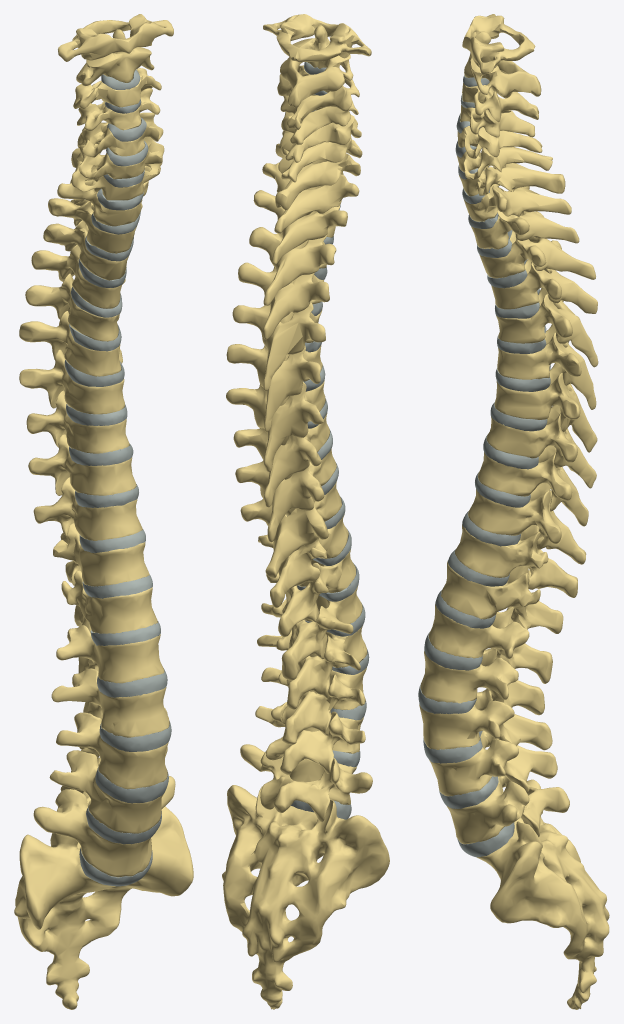
3 views of the same model, side by side, from view 1: azimuth 30°, elevation 25°; view 2: azimuth 150°, elevation 25°; view 3: azimuth 270°, elevation 25° (orthographic). The views are drawn at different scales.
Parts seen in each view (by area): view 1: spine-trunk:sacrum:isa:FJ3393, spine-trunk:fifth-lumbar-vertebra:isa:FJ3168, spine-trunk:second-lumbar-vertebra:isa:FJ3159, spine-trunk:third-lumbar-vertebra:isa:FJ3162, spine-trunk:fourth-lumbar-vertebra:isa:FJ3165, spine-trunk:first-lumbar-vertebra:isa:FJ3157, spine-trunk:tenth-thoracic-vertebra:isa:FJ3154, spine-trunk:twelfth-thoracic-vertebra:isa:FJ3156, spine-trunk:eleventh-thoracic-vertebra:isa:FJ3155, spine-trunk:ninth-thoracic-vertebra:isa:FJ3175, head-neck:atlas:isa:FJ3176, spine-trunk:seventh-thoracic-vertebra:isa:FJ3173 (+33 smaller); view 2: spine-trunk:sacrum:isa:FJ3393, spine-trunk:fifth-lumbar-vertebra:isa:FJ3168, spine-trunk:fourth-lumbar-vertebra:isa:FJ3165, spine-trunk:seventh-thoracic-vertebra:isa:FJ3173, spine-trunk:third-lumbar-vertebra:isa:FJ3162, spine-trunk:first-lumbar-vertebra:isa:FJ3157, spine-trunk:tenth-thoracic-vertebra:isa:FJ3154, spine-trunk:second-lumbar-vertebra:isa:FJ3159, spine-trunk:ninth-thoracic-vertebra:isa:FJ3175, spine-trunk:fifth-thoracic-vertebra:isa:FJ3169, spine-trunk:sixth-thoracic-vertebra:isa:FJ3171, spine-trunk:eighth-thoracic-vertebra:isa:FJ3174 (+14 smaller); view 3: spine-trunk:sacrum:isa:FJ3393, spine-trunk:third-lumbar-vertebra:isa:FJ3162, spine-trunk:first-lumbar-vertebra:isa:FJ3157, spine-trunk:second-lumbar-vertebra:isa:FJ3159, spine-trunk:fifth-lumbar-vertebra:isa:FJ3168, spine-trunk:twelfth-thoracic-vertebra:isa:FJ3156, spine-trunk:fourth-lumbar-vertebra:isa:FJ3165, spine-trunk:eleventh-thoracic-vertebra:isa:FJ3155, spine-trunk:tenth-thoracic-vertebra:isa:FJ3154, spine-trunk:ninth-thoracic-vertebra:isa:FJ3175, spine-trunk:seventh-thoracic-vertebra:isa:FJ3173, spine-trunk:eighth-thoracic-vertebra:isa:FJ3174 (+27 smaller).
Part boxes in pixels (x1,y1,x2,y2): spine-trunk:sacrum:isa:FJ3393: (14,806,193,1009); spine-trunk:fifth-lumbar-vertebra:isa:FJ3168: (33,776,175,877); spine-trunk:second-lumbar-vertebra:isa:FJ3159: (51,668,169,737); spine-trunk:third-lumbar-vertebra:isa:FJ3162: (56,707,168,788); spine-trunk:fourth-lumbar-vertebra:isa:FJ3165: (49,747,167,833); spine-trunk:first-lumbar-vertebra:isa:FJ3157: (56,625,164,683); spine-trunk:tenth-thoracic-vertebra:isa:FJ3154: (33,477,142,544); spine-trunk:twelfth-thoracic-vertebra:isa:FJ3156: (61,570,157,633); spine-trunk:eleventh-thoracic-vertebra:isa:FJ3155: (53,523,149,586); spine-trunk:ninth-thoracic-vertebra:isa:FJ3175: (28,434,136,495); head-neck:atlas:isa:FJ3176: (58,14,173,61); spine-trunk:seventh-thoracic-vertebra:isa:FJ3173: (19,349,124,414); spine-trunk:sacrum:isa:FJ3393: (222,785,389,1009); spine-trunk:fifth-lumbar-vertebra:isa:FJ3168: (240,744,372,822); spine-trunk:fourth-lumbar-vertebra:isa:FJ3165: (255,702,365,774); spine-trunk:seventh-thoracic-vertebra:isa:FJ3173: (226,380,325,471); spine-trunk:third-lumbar-vertebra:isa:FJ3162: (261,667,366,744); spine-trunk:first-lumbar-vertebra:isa:FJ3157: (261,584,362,680); spine-trunk:tenth-thoracic-vertebra:isa:FJ3154: (240,481,341,577); spine-trunk:second-lumbar-vertebra:isa:FJ3159: (257,625,367,709); spine-trunk:ninth-thoracic-vertebra:isa:FJ3175: (235,448,336,542); spine-trunk:fifth-thoracic-vertebra:isa:FJ3169: (232,302,325,391); spine-trunk:sixth-thoracic-vertebra:isa:FJ3171: (226,344,322,431); spine-trunk:eighth-thoracic-vertebra:isa:FJ3174: (233,413,329,507); spine-trunk:sacrum:isa:FJ3393: (477,779,609,1009); spine-trunk:third-lumbar-vertebra:isa:FJ3162: (419,688,552,750); spine-trunk:first-lumbar-vertebra:isa:FJ3157: (428,604,552,683); spine-trunk:second-lumbar-vertebra:isa:FJ3159: (420,648,544,715); spine-trunk:fifth-lumbar-vertebra:isa:FJ3168: (447,775,569,844); spine-trunk:twelfth-thoracic-vertebra:isa:FJ3156: (441,561,563,633); spine-trunk:fourth-lumbar-vertebra:isa:FJ3165: (429,730,557,796); spine-trunk:eleventh-thoracic-vertebra:isa:FJ3155: (455,524,577,597); spine-trunk:tenth-thoracic-vertebra:isa:FJ3154: (468,483,586,564); spine-trunk:ninth-thoracic-vertebra:isa:FJ3175: (478,445,588,526); spine-trunk:seventh-thoracic-vertebra:isa:FJ3173: (494,363,597,452); spine-trunk:eighth-thoracic-vertebra:isa:FJ3174: (486,405,596,488).
Size of the model in its own units: 0.1178 by 0.6986 by 0.1232.
